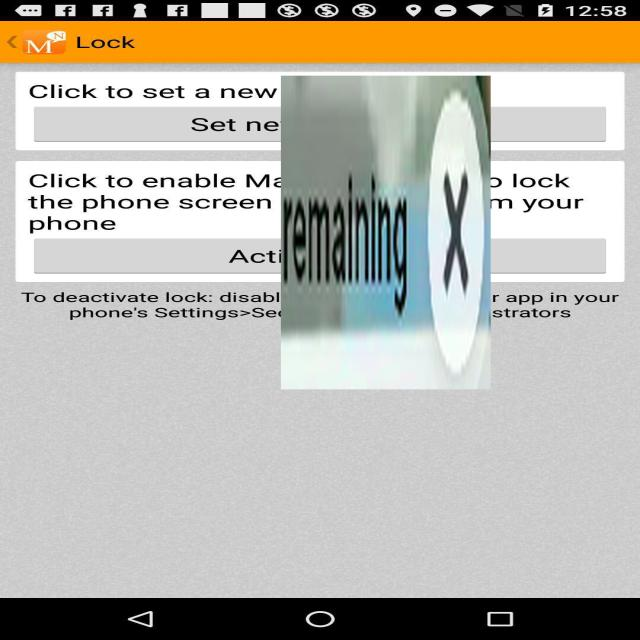misdirection: (281, 76, 491, 389)
